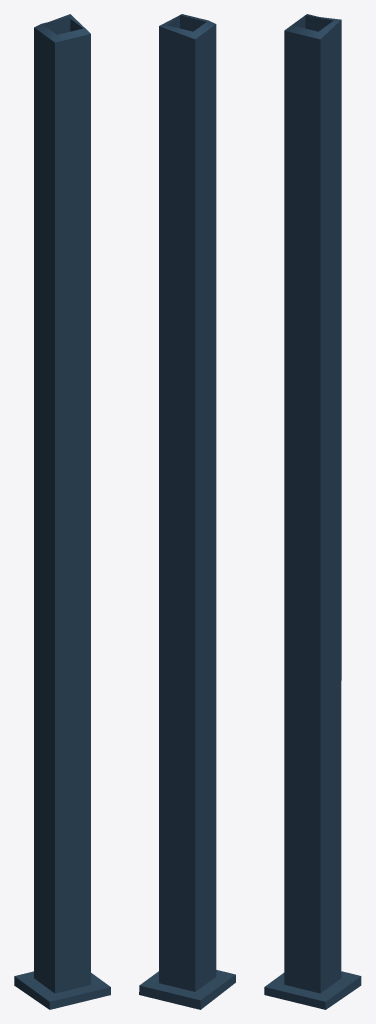
Rendered from pole.fbx.
3 renders of one model, left to right at view 1: azimuth 30°, elevation 25°; view 2: azimuth 150°, elevation 25°; view 3: azimuth 330°, elevation 25°, orthographic.
Visible parts, largest first — view 1: SM_Pole_01; view 2: SM_Pole_01; view 3: SM_Pole_01.
Boxes of the visible parts, x1=… form: SM_Pole_01: x1=14, y1=14, x2=110, y2=1009; SM_Pole_01: x1=139, y1=14, x2=235, y2=1009; SM_Pole_01: x1=264, y1=14, x2=361, y2=1009.
Bounding box in the file's own units: 40 × 600 × 39.9.
